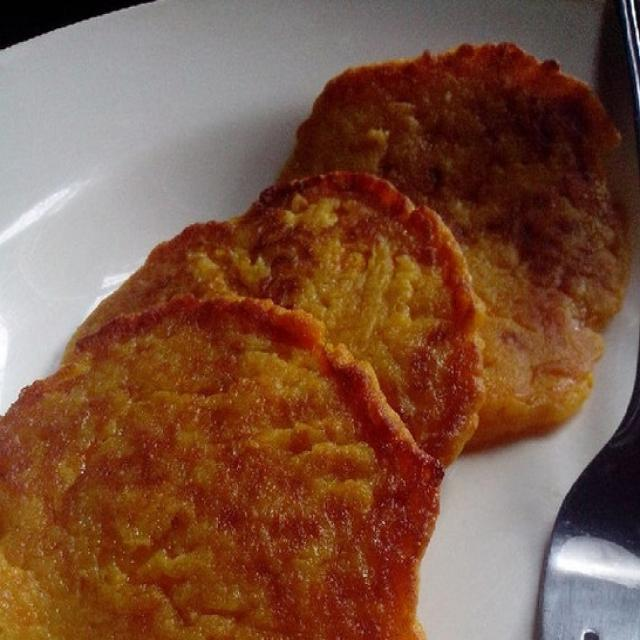炸货点心: (9, 12, 627, 628)
蛋糕甜品: (9, 12, 627, 628)
